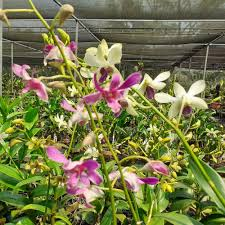orchid: (13, 17, 215, 214)
